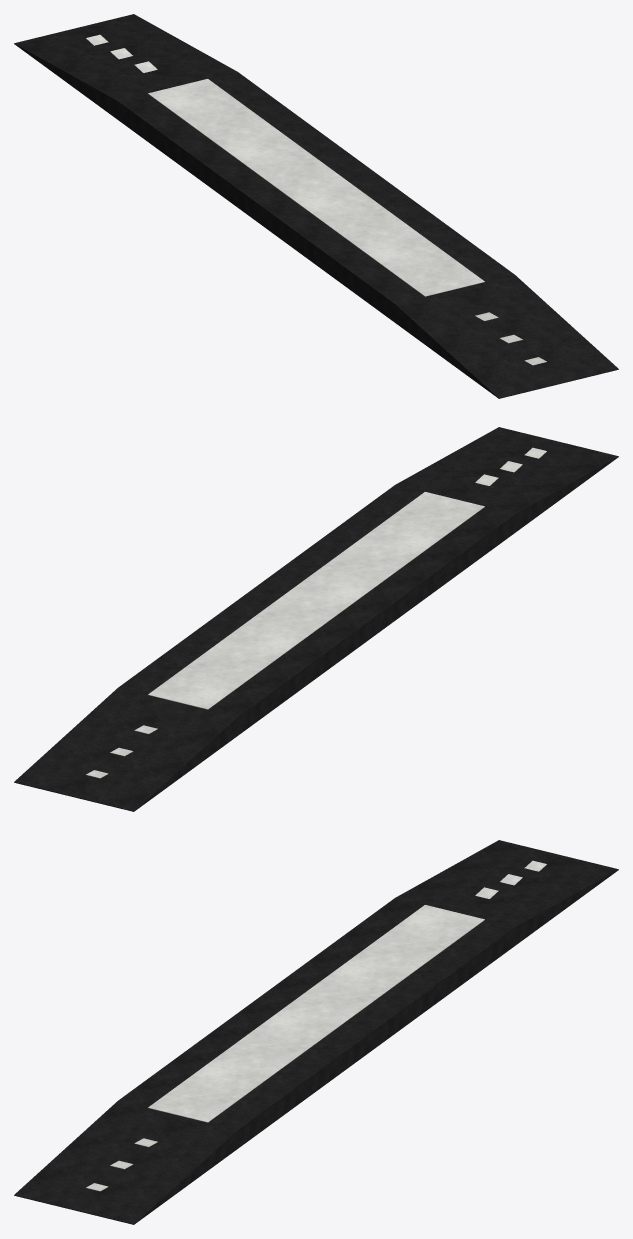
File: PAV-CAL-003.glb
3 views of the same model, one above another, from view 1: azimuth 30°, elevation 25°; view 2: azimuth 150°, elevation 25°; view 3: azimuth 330°, elevation 25° (orthographic).
Visible parts, largest first — view 1: PAV-CAL-003_corpo, PAV-CAL-003_faixa; view 2: PAV-CAL-003_corpo, PAV-CAL-003_faixa; view 3: PAV-CAL-003_corpo, PAV-CAL-003_faixa.
Boxes of the visible parts, left/top/right/bottom form: PAV-CAL-003_corpo: left=14, top=14, right=618, bottom=398; PAV-CAL-003_faixa: left=148, top=79, right=484, bottom=296; PAV-CAL-003_corpo: left=14, top=427, right=618, bottom=811; PAV-CAL-003_faixa: left=148, top=492, right=484, bottom=709; PAV-CAL-003_corpo: left=14, top=840, right=618, bottom=1224; PAV-CAL-003_faixa: left=148, top=905, right=484, bottom=1122.
Bounding box in the file's own units: 0.9998 × 0.1539 × 7.
Materials: 2 (2 with a texture image).
